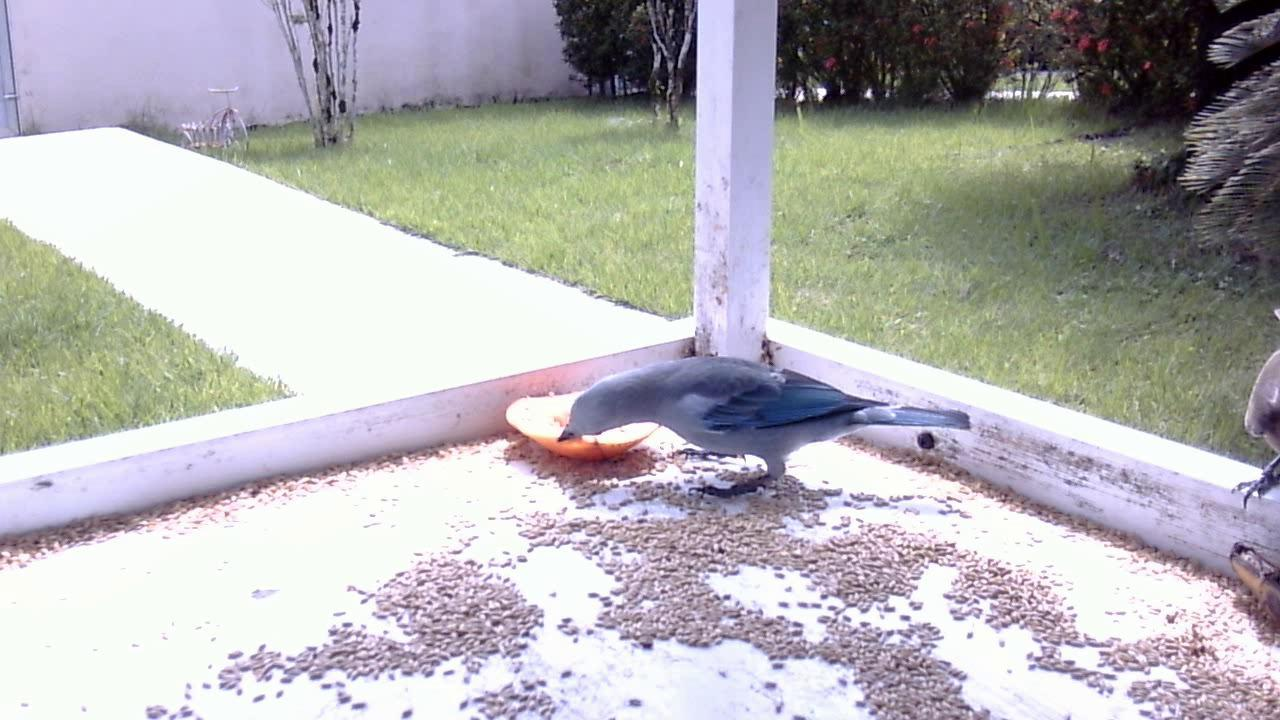sanhaco_da_amazonia: (565, 348, 975, 504)
